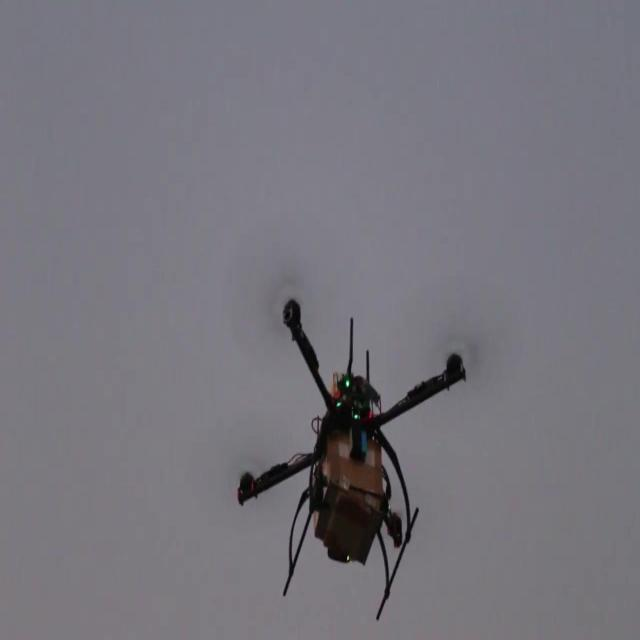drone: (237, 296, 468, 624)
